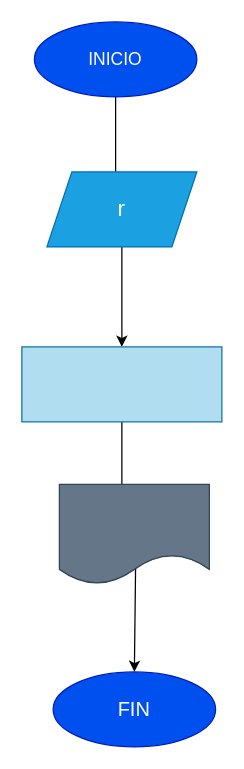
Some shapes in this 244 by 769 pixel diagram are drawn without their labels. The shapes that lost their labels are listed below. From the top down, each one's centre as x and y in pixels, then its label:
point 121,384: p=2 πr a= π r²
point 133,533: p,a
